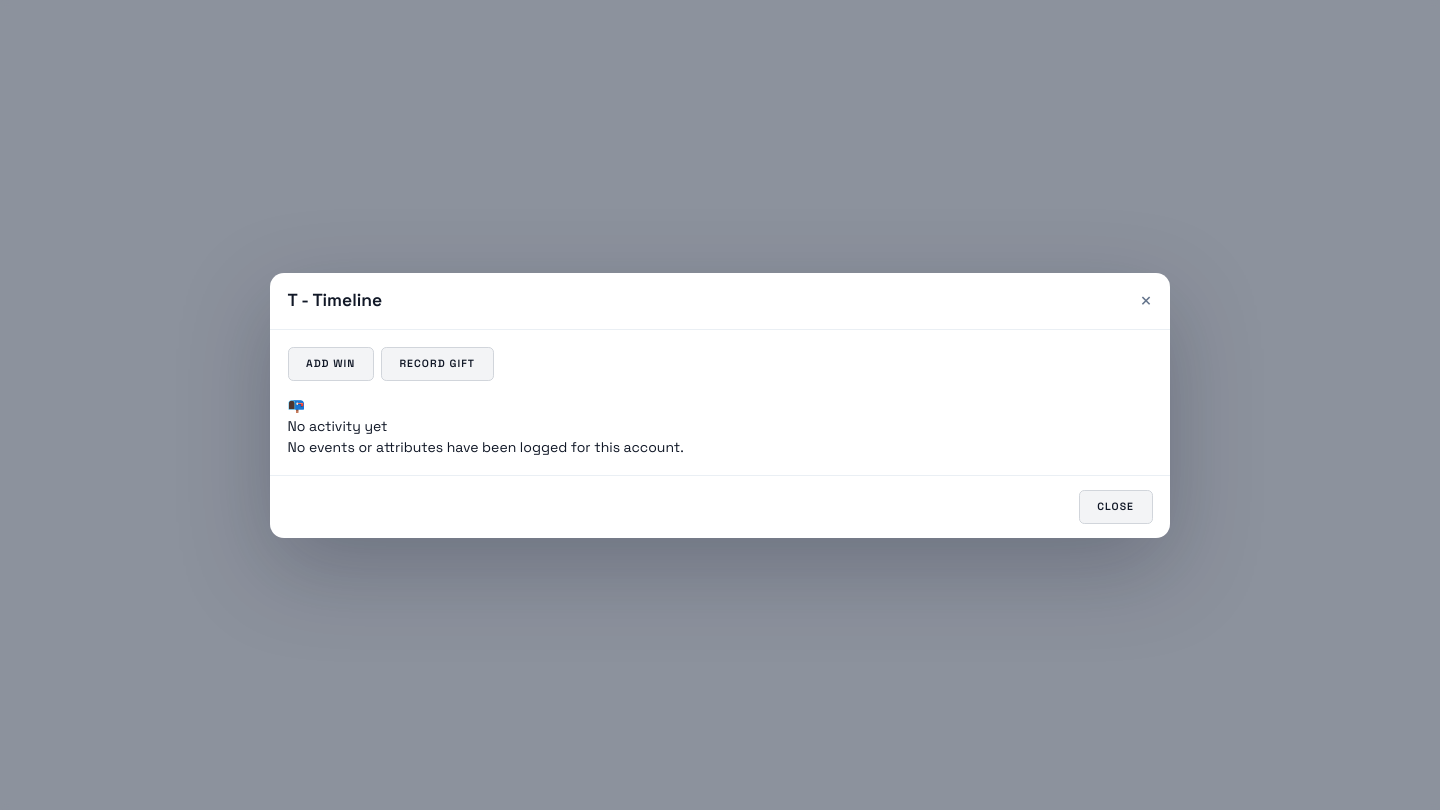
Test case: AccountEventsModal – additional function coverage › saveWin / cancelWin › shows win form when Add Win clicked
Click the button "Add Win".
click(331, 364)  # box [288,347,374,380]
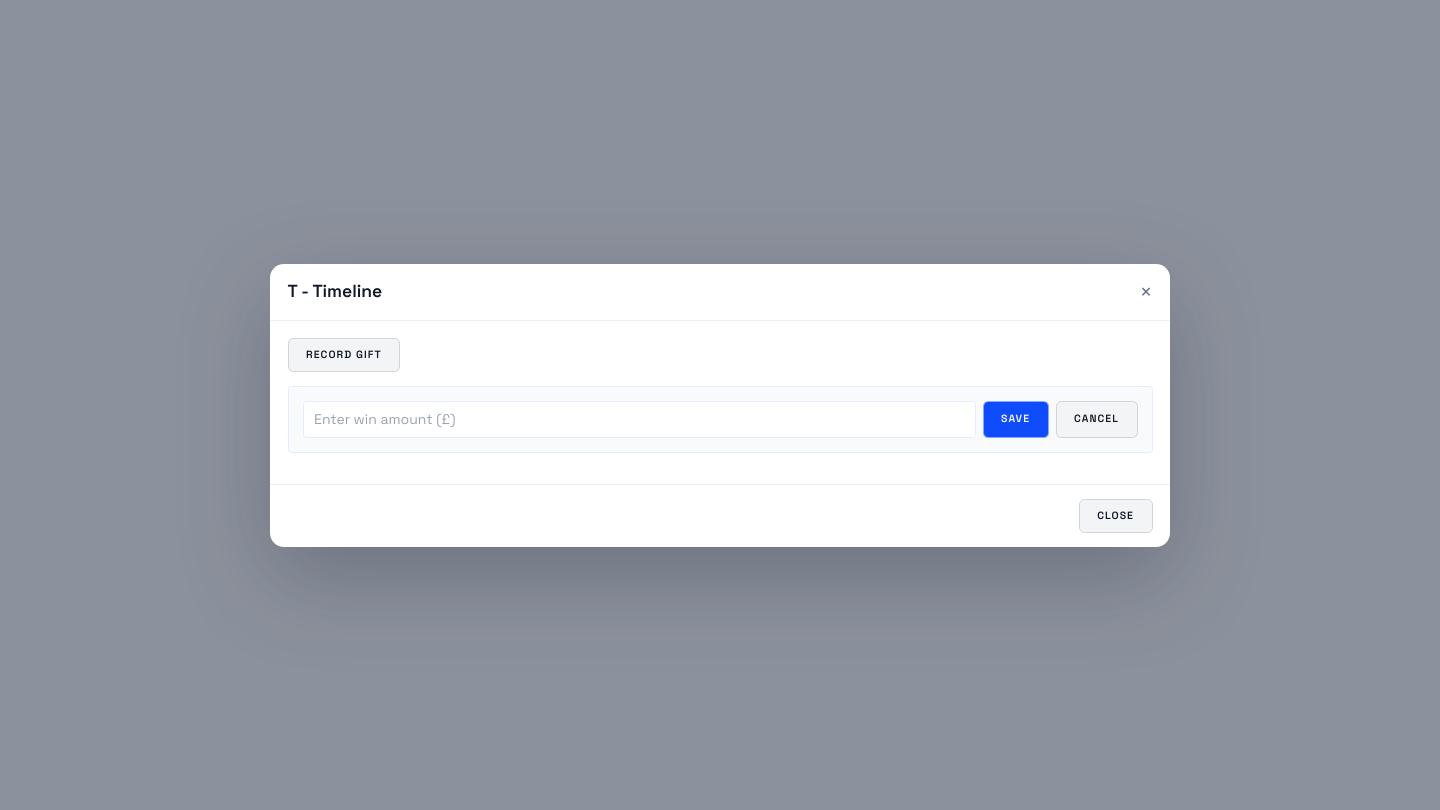
Check: the field with placeholder "Enter win amount (£)" is shown, box [302,400,976,438]
